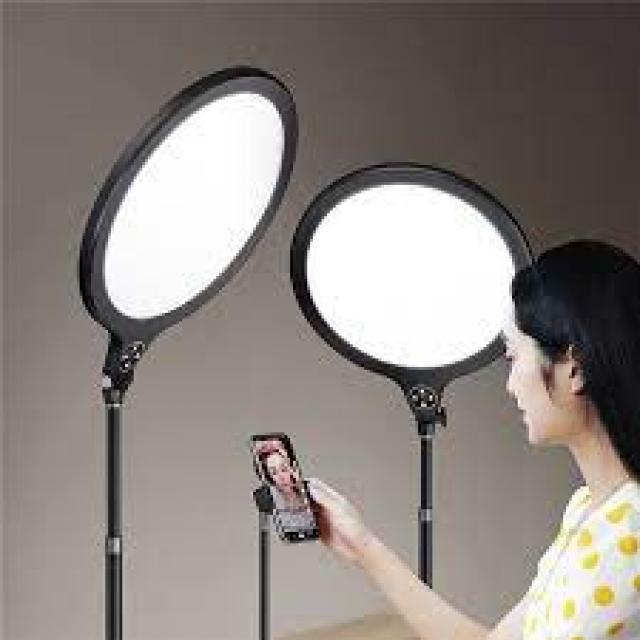Phone: (246, 428, 328, 546)
